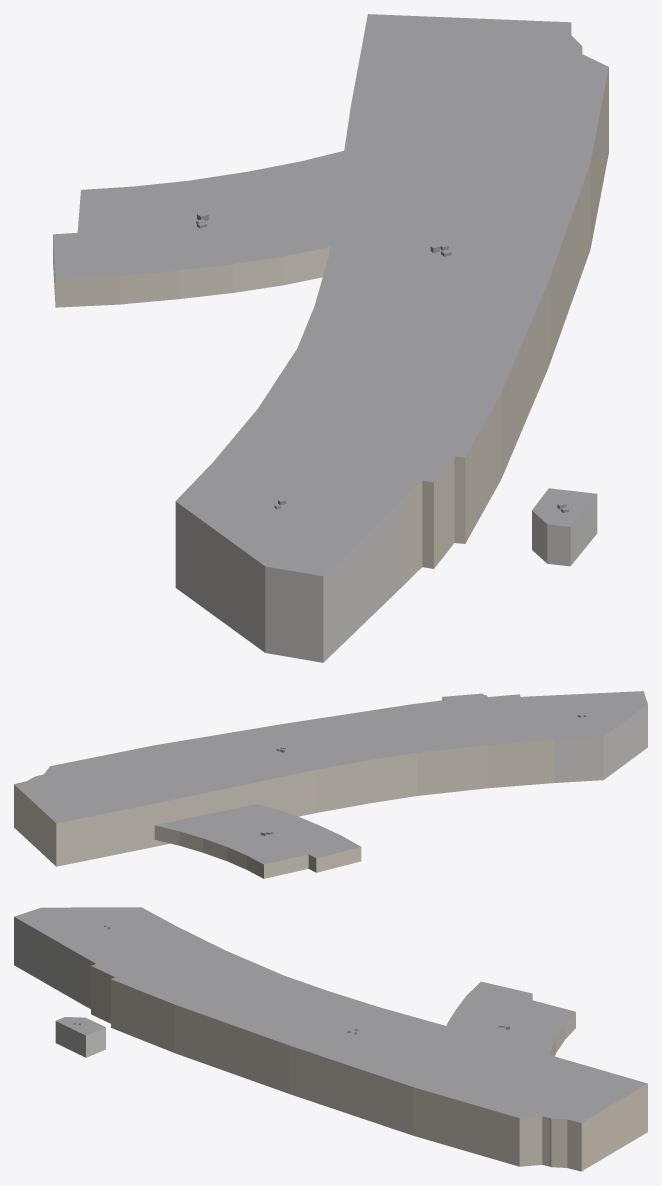
File: building_1_2.glb
3 views of the same model, one above another, from view 1: azimuth 30°, elevation 25°; view 2: azimuth 150°, elevation 25°; view 3: azimuth 270°, elevation 25° (orthographic). The views are drawn at different scales.
Visible parts, largest first — view 1: roof, concrete_warm, concrete_light; view 2: roof, concrete_warm, concrete_light; view 3: roof, concrete_warm, concrete_light.
Boxes of the visible parts, x1,y1,x2,y2 form: roof: (53, 14, 608, 576); concrete_warm: (53, 24, 608, 587); concrete_light: (175, 494, 597, 662); roof: (14, 691, 647, 864); concrete_warm: (14, 740, 554, 878); concrete_light: (442, 697, 647, 782); roof: (14, 907, 647, 1122); concrete_warm: (78, 954, 647, 1171); concrete_light: (14, 917, 105, 1057).
Size of the model in its own units: 286 by 31.68 by 355.
